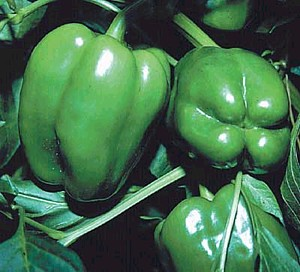capsicum: (18, 1, 173, 203), (169, 12, 292, 173), (155, 180, 262, 271)
